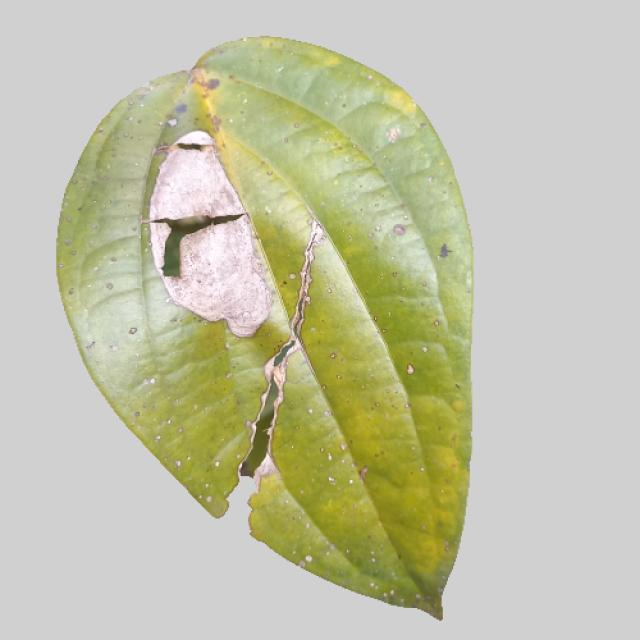leaf-blight: (37, 54, 484, 627)
